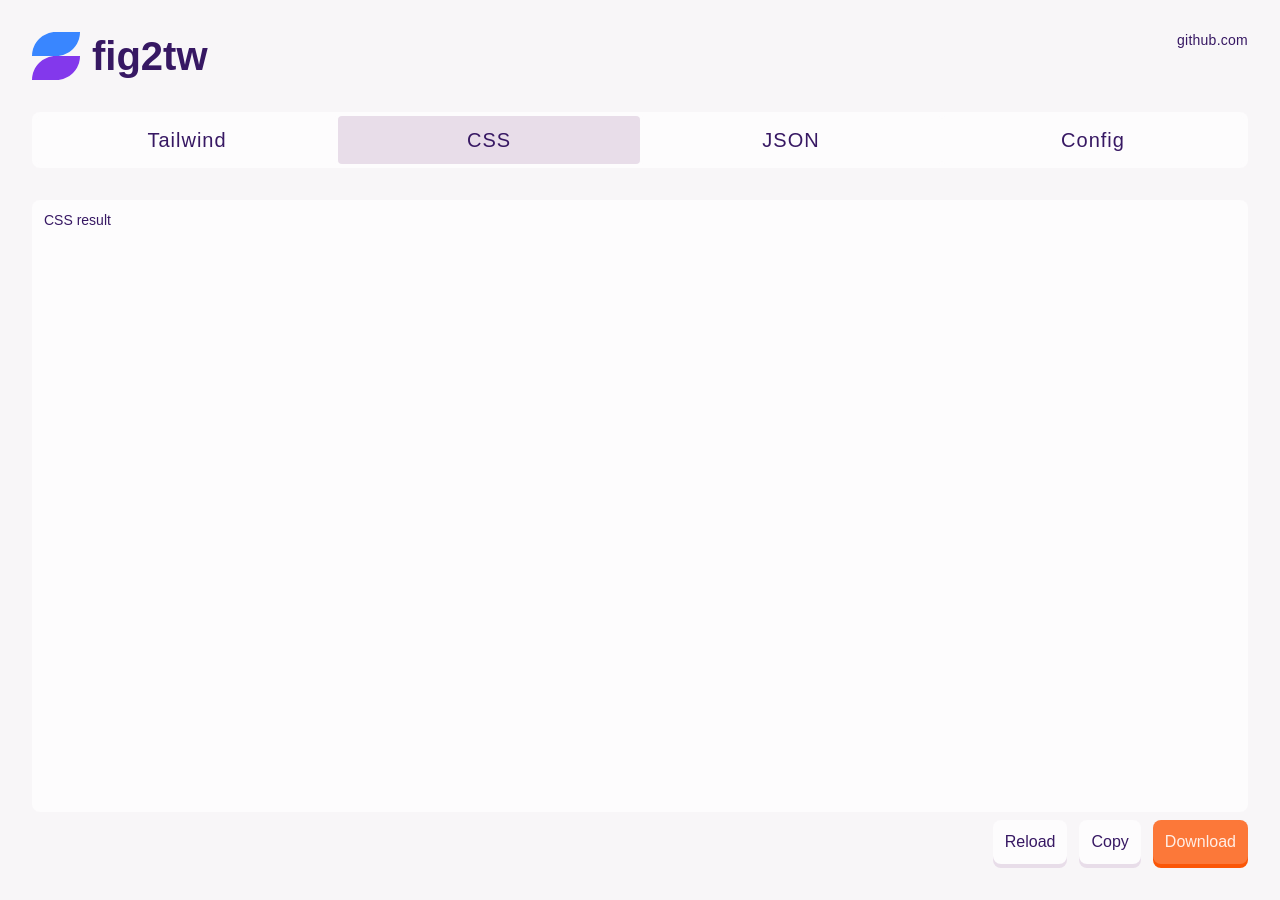
Scenario: App › should navigate to Tailwind tab
Click the tab "Tailwind" at (187, 140), box x1=36 y1=116 x2=338 y2=164
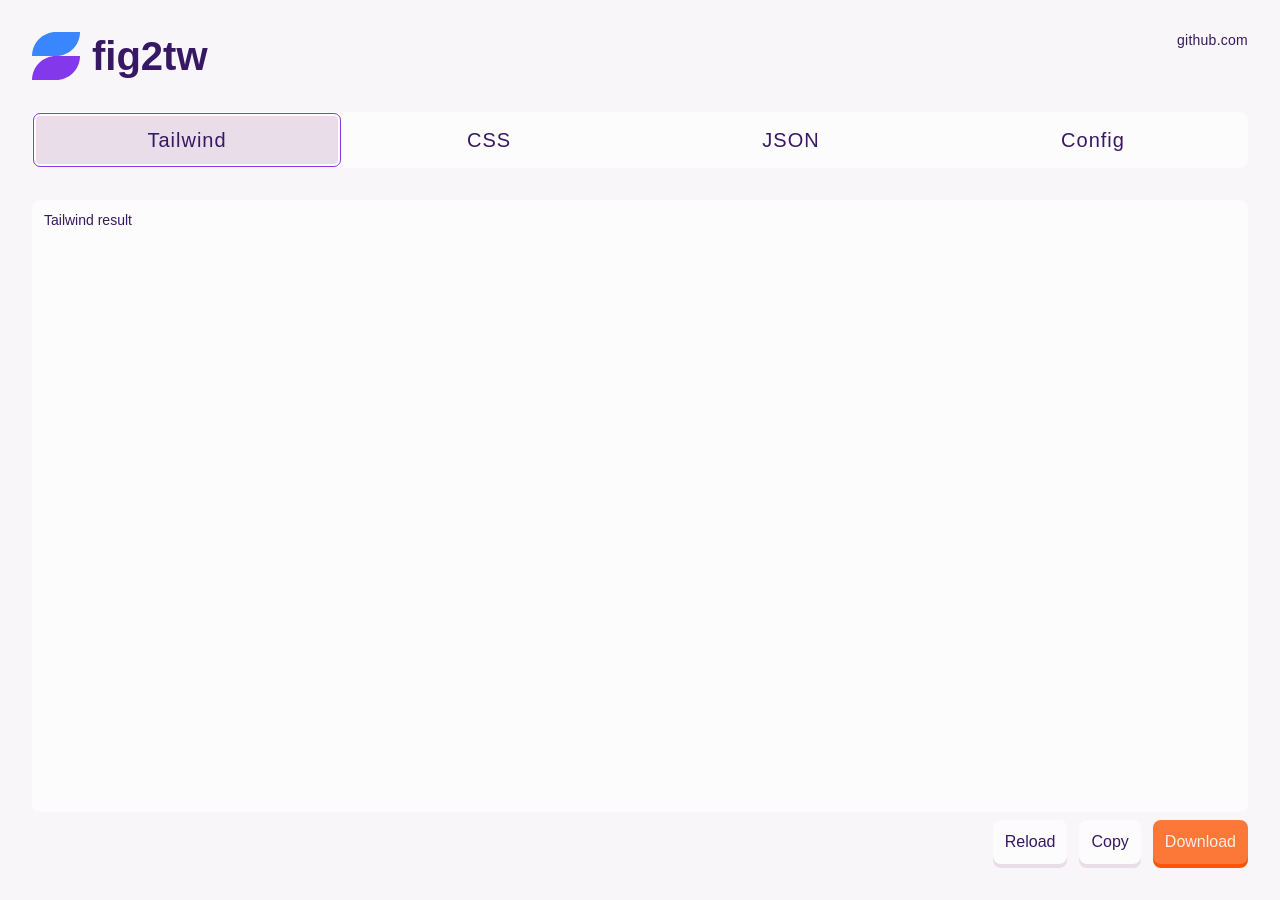
Expected: the text "Tailwind result" is shown, x1=44 y1=212 x2=132 y2=228
